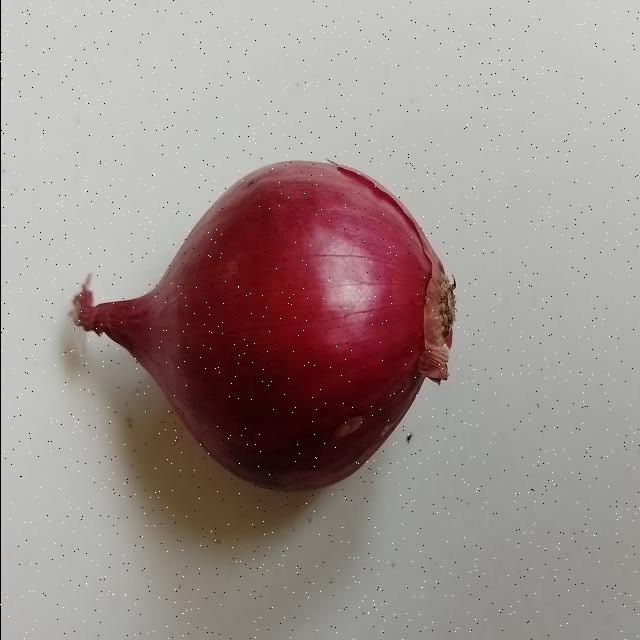Onion: (71, 162, 455, 492)
